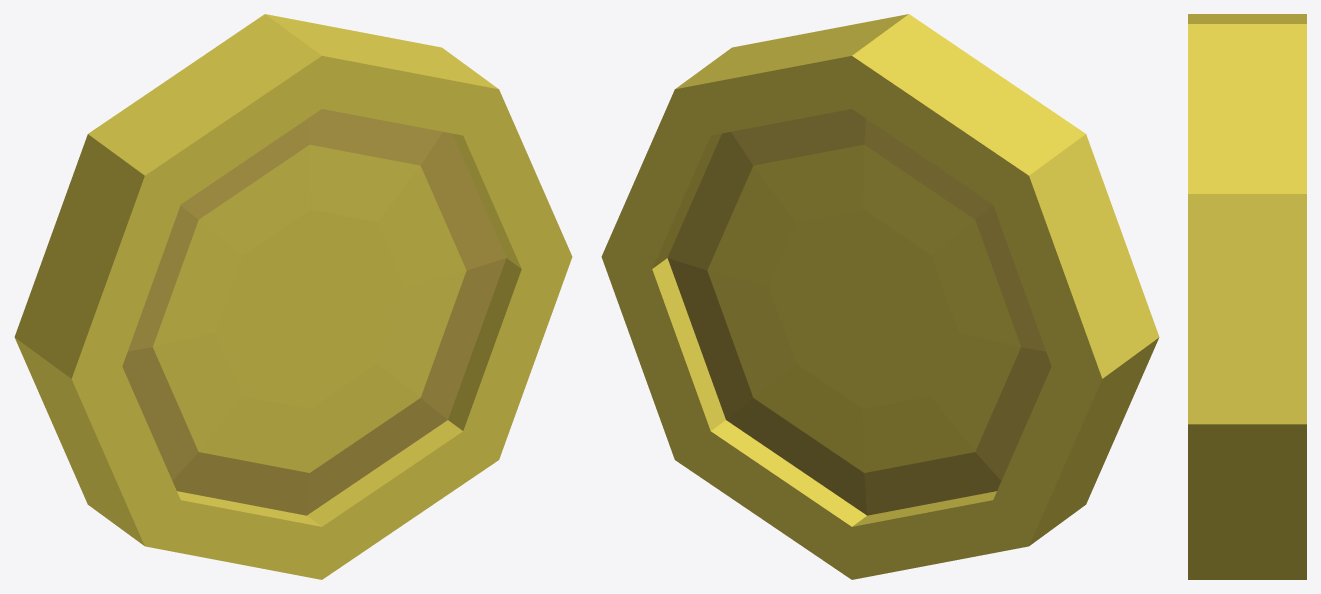
File: env_prop_coin1_mesh_01_v1.glb
The picture shows the model from 3 angles, left to right: view 1: azimuth 30°, elevation 25°; view 2: azimuth 150°, elevation 25°; view 3: azimuth 270°, elevation 25°; orthographic projection. The views are drawn at different scales.
Parts seen in each view (by area): view 1: GoldCoin; view 2: GoldCoin; view 3: GoldCoin.
Boxes of the visible parts, left/top/right/bottom form: GoldCoin: left=14, top=14, right=572, bottom=579; GoldCoin: left=601, top=14, right=1159, bottom=579; GoldCoin: left=1188, top=14, right=1306, bottom=579.
Bounding box in the file's own units: 1.47 × 1.47 × 0.2896.
